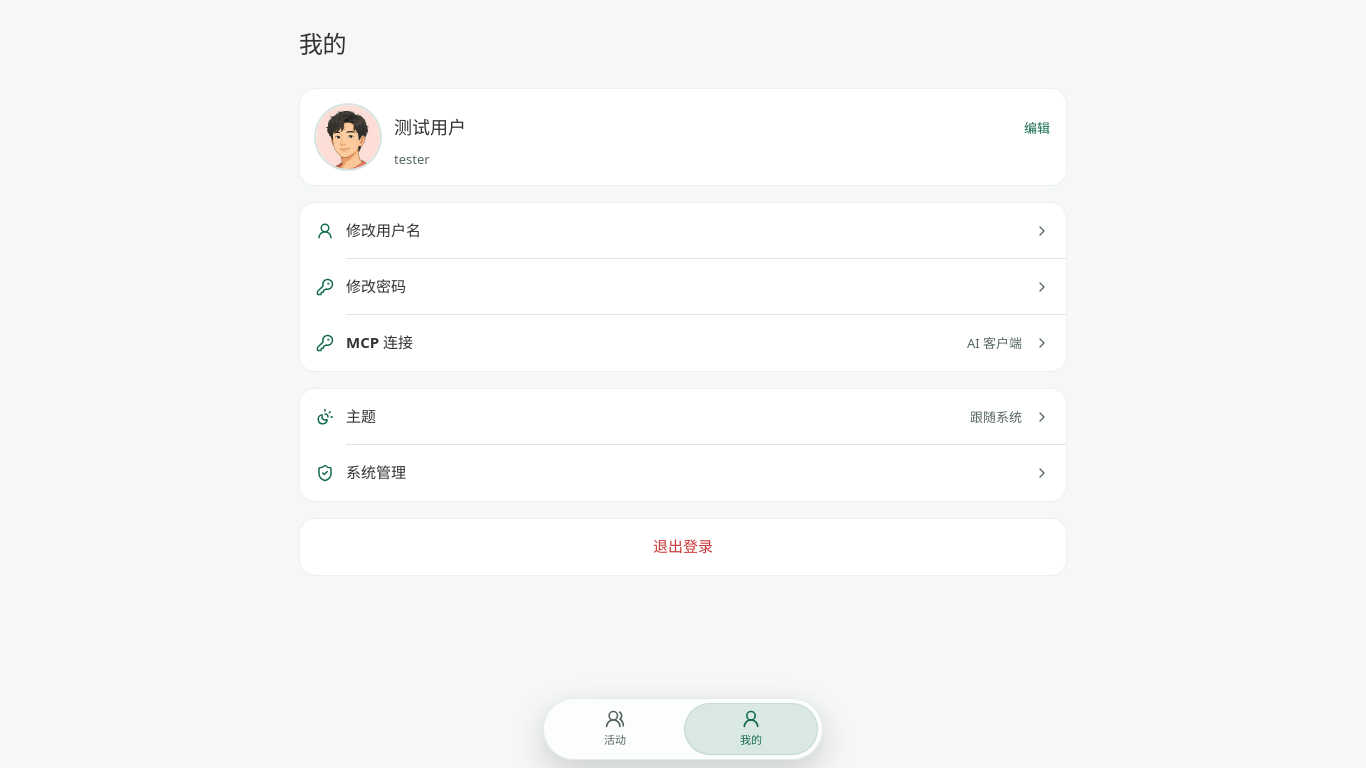
Test case: MePage › 昵称保存会 trim、支持回车提交并关闭 Sheet
This screenshot has width=1366, height=768.
Click the button with aria-label "修改昵称": (430, 127) x1=394 y1=106 x2=1050 y2=150
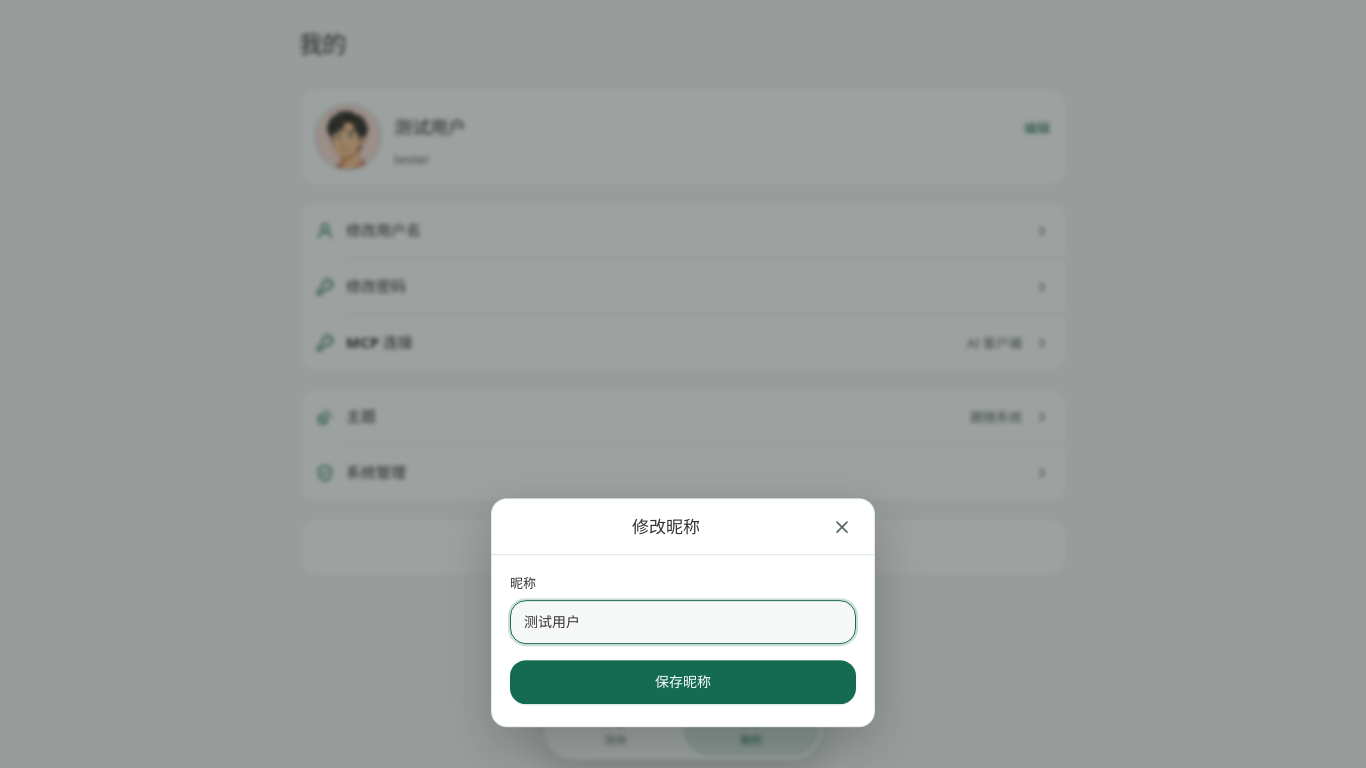
Replace the text in the field labelled "昵称" with "  新昵称  ": (683, 623) x1=510 y1=601 x2=856 y2=645
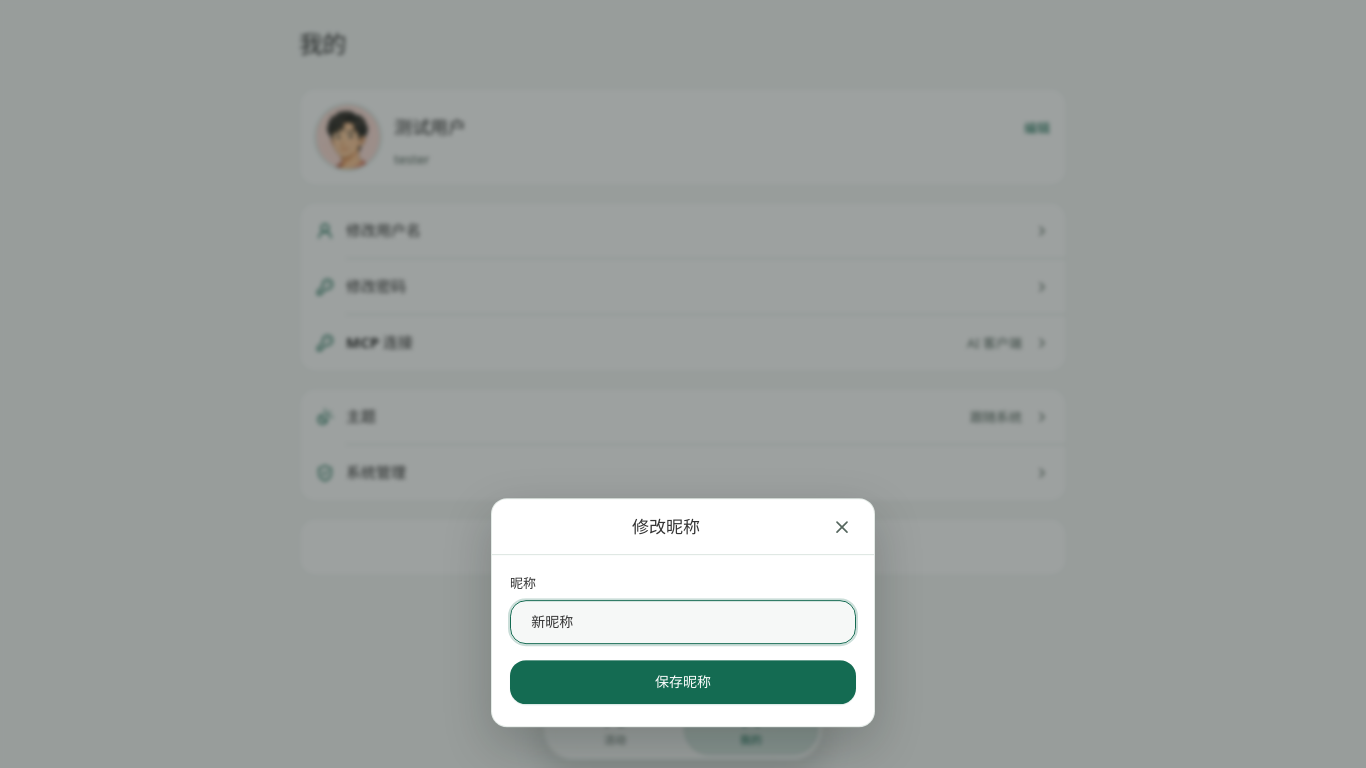
Submit the form "昵称", box x1=510 y1=574 x2=856 y2=709
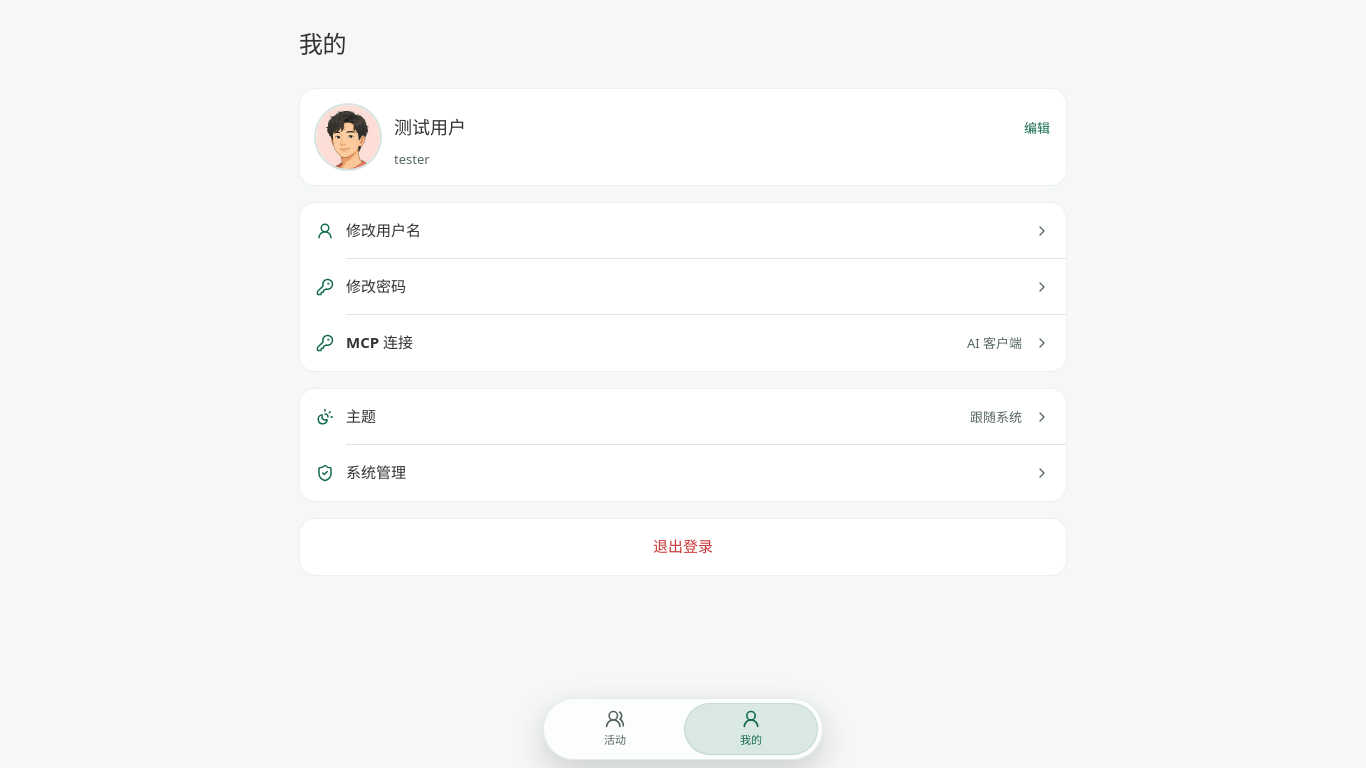
Expected: the heading "修改昵称" is gone
